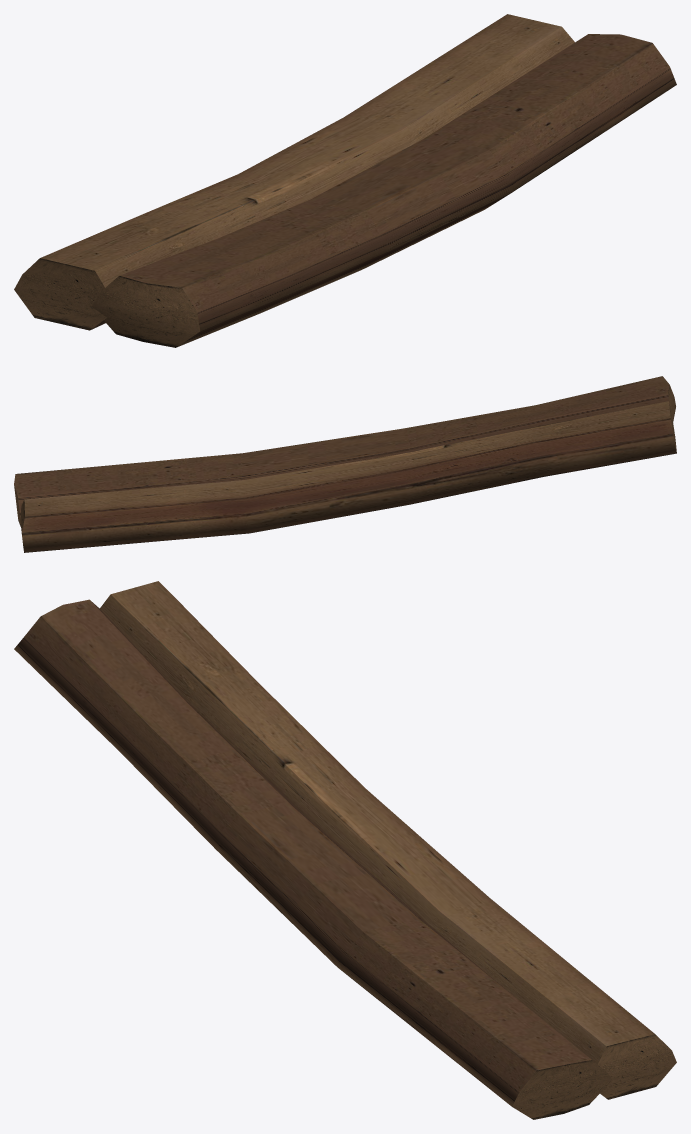
The model's file is Planks.fbx.
3 renders of one model, top to bottom at view 1: azimuth 30°, elevation 25°; view 2: azimuth 150°, elevation 25°; view 3: azimuth 270°, elevation 25°, orthographic. The views are drawn at different scales.
Parts seen in each view (by area): view 1: planks; view 2: planks; view 3: planks.
Boxes of the visible parts, x1,y1,x2,y2 form: planks: [14, 14, 676, 347]; planks: [14, 376, 676, 552]; planks: [14, 581, 676, 1119].
Bounding box in the file's own units: 8.34 × 1.82 × 6.19.
